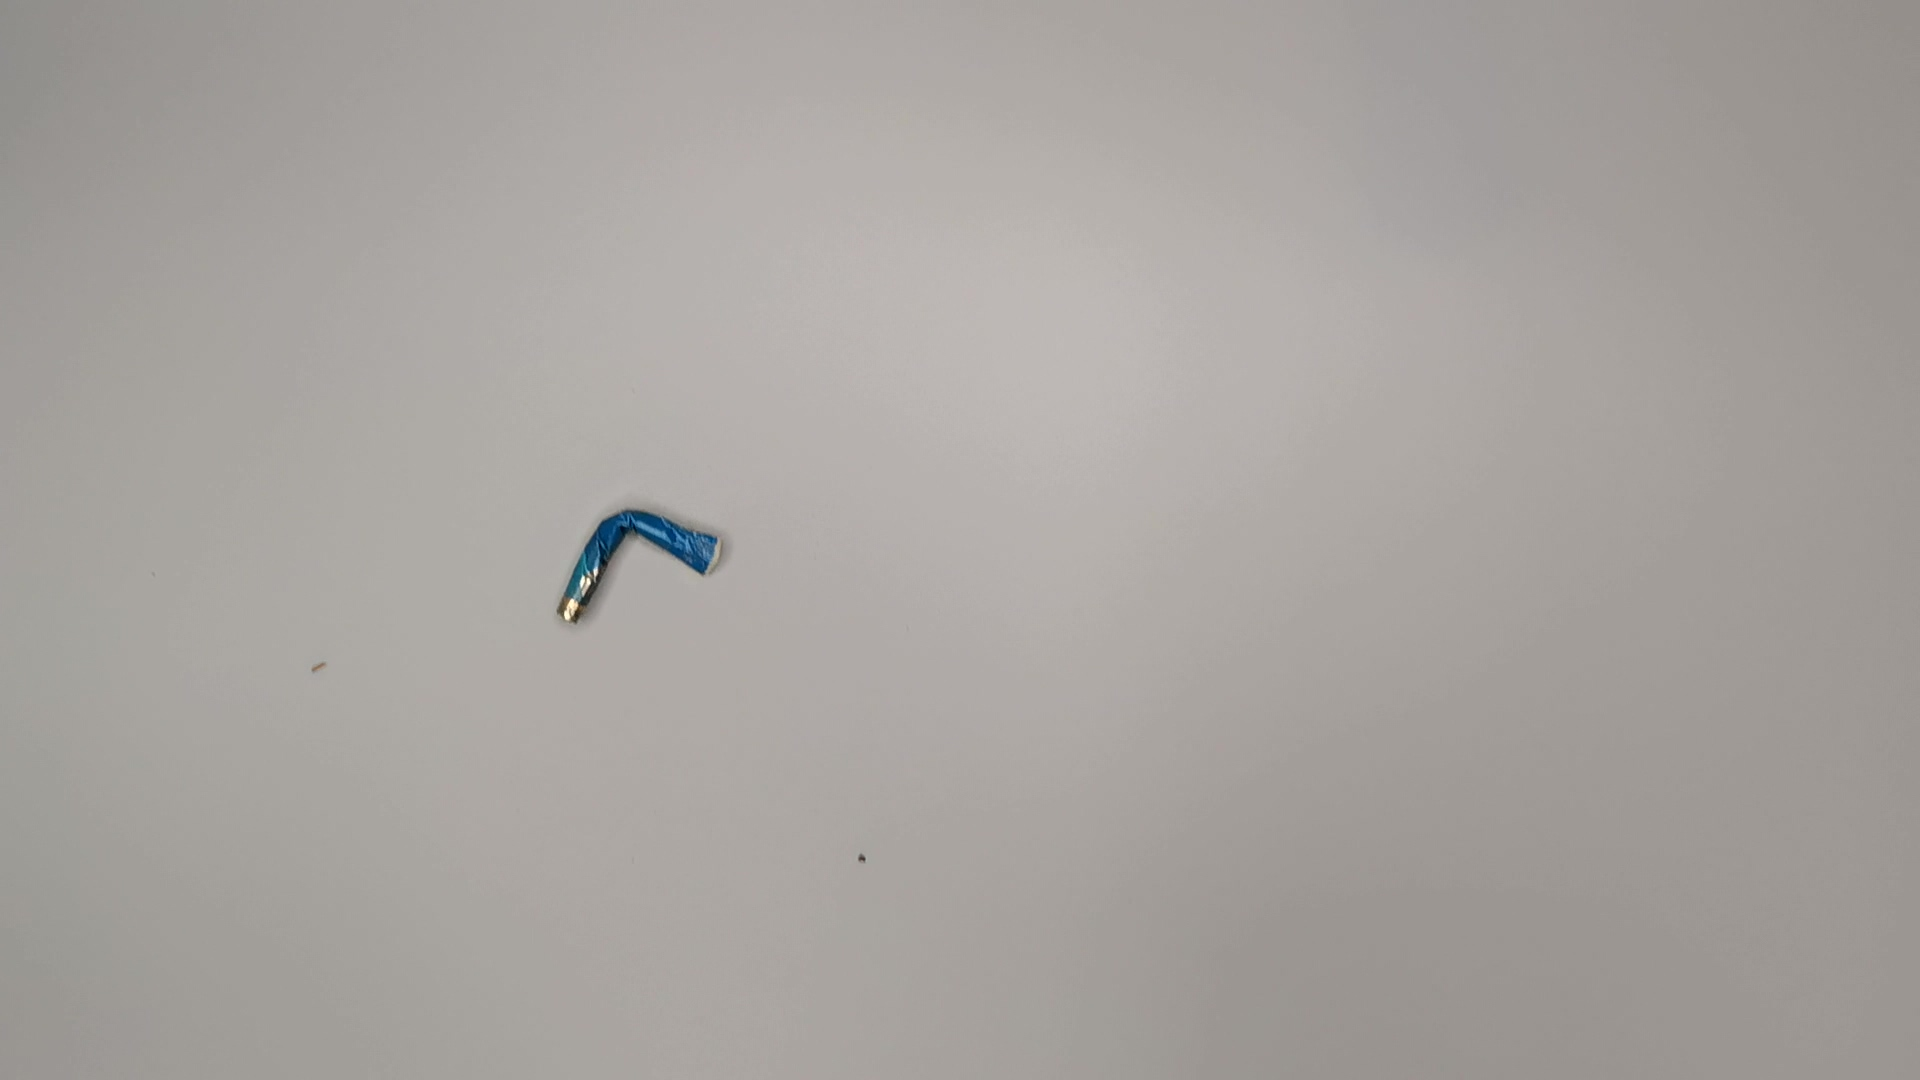cigarette: (541, 495, 740, 649)
